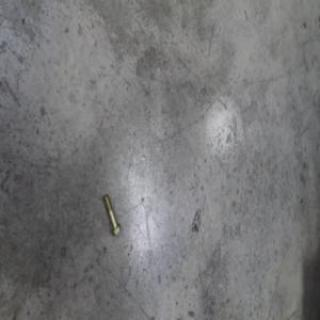Bolttrack_idkeyframe: (100, 192, 120, 237)
